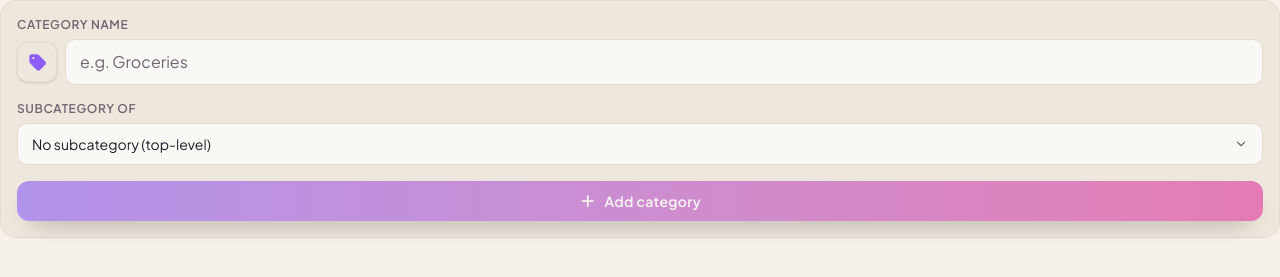
TagCreateMode › disables Add until the name is 2–25 characters
This screenshot has width=1280, height=277.
Expected: the button "Add category" is disabled, [17,181,1263,221]
Type "a" into the field named "Category name" at [664, 62], box [66,40,1262,84]
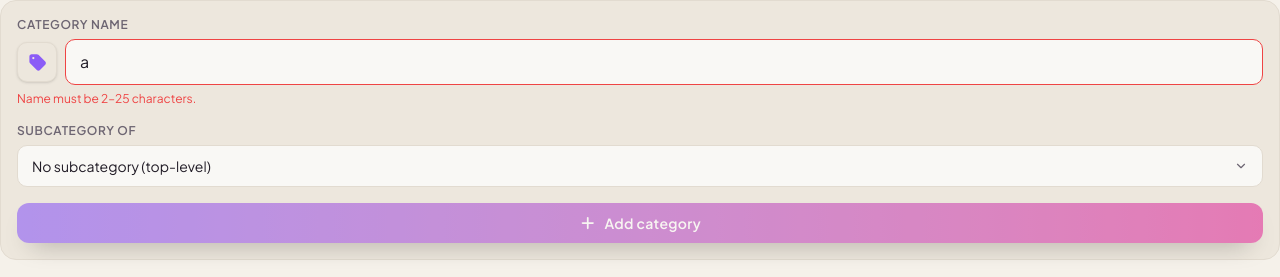
Expected: the button "Add category" is disabled, [17,203,1263,243]
Type "b" into the field named "Category name" at [664, 62], box [66,40,1262,84]
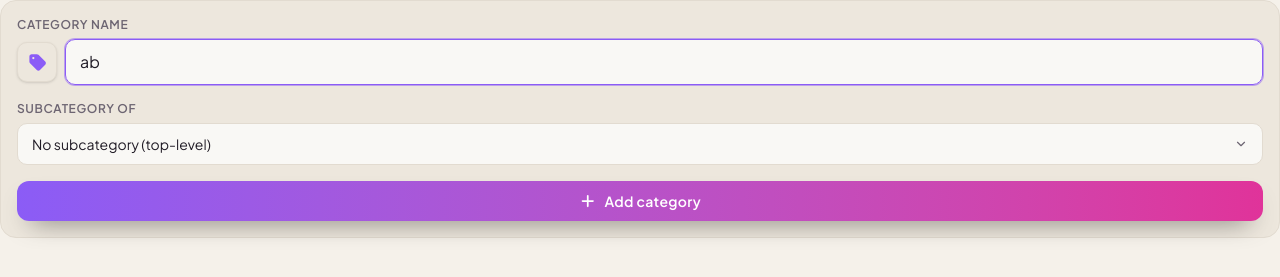
Expected: the button "Add category" is enabled, [17,181,1263,221]
